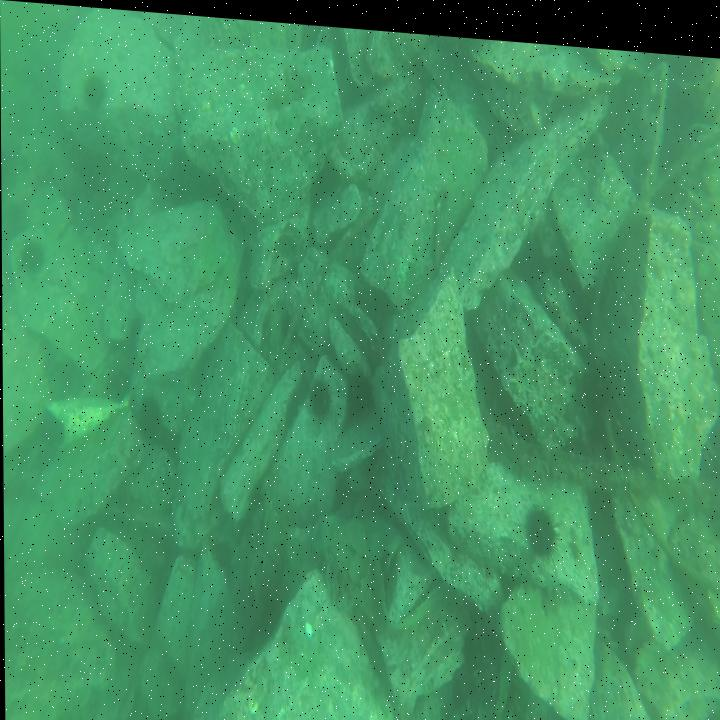echinus: (520, 487, 562, 563), (302, 361, 337, 428), (16, 228, 49, 279), (81, 64, 108, 111)
